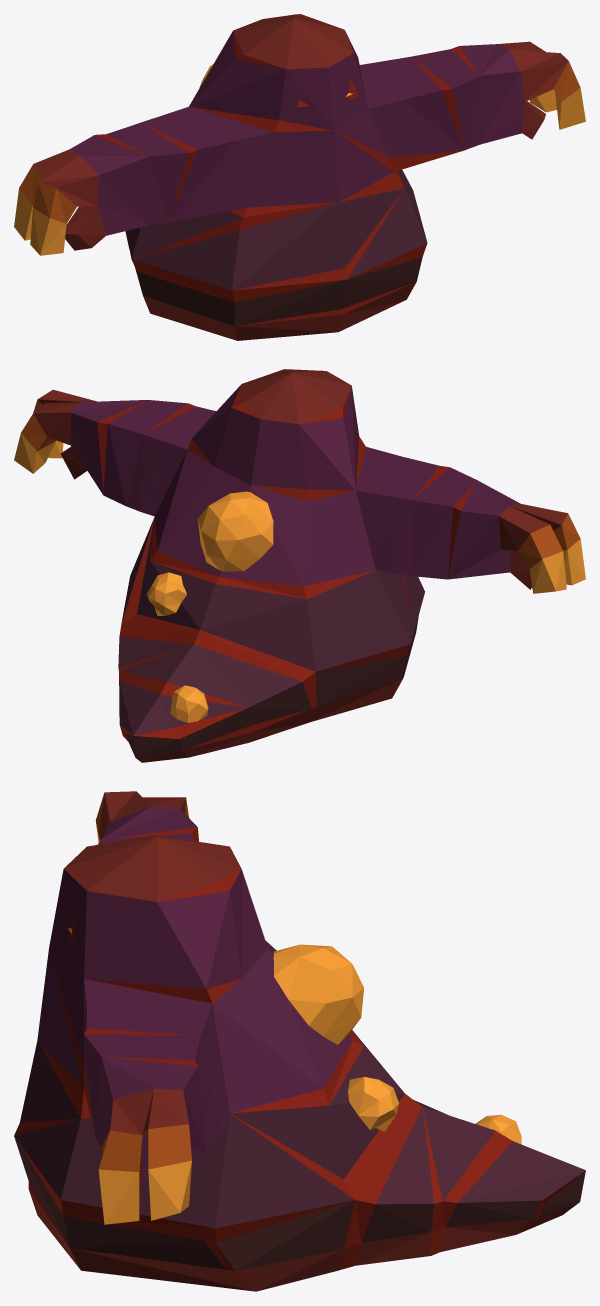
The model's file is tz_kek.glb.
3 renders of one model, top to bottom at view 1: azimuth 30°, elevation 25°; view 2: azimuth 150°, elevation 25°; view 3: azimuth 270°, elevation 25°, orthographic. The views are drawn at different scales.
Size of the model in its own units: 291 by 143 by 196.
1 material, 1 textured.
